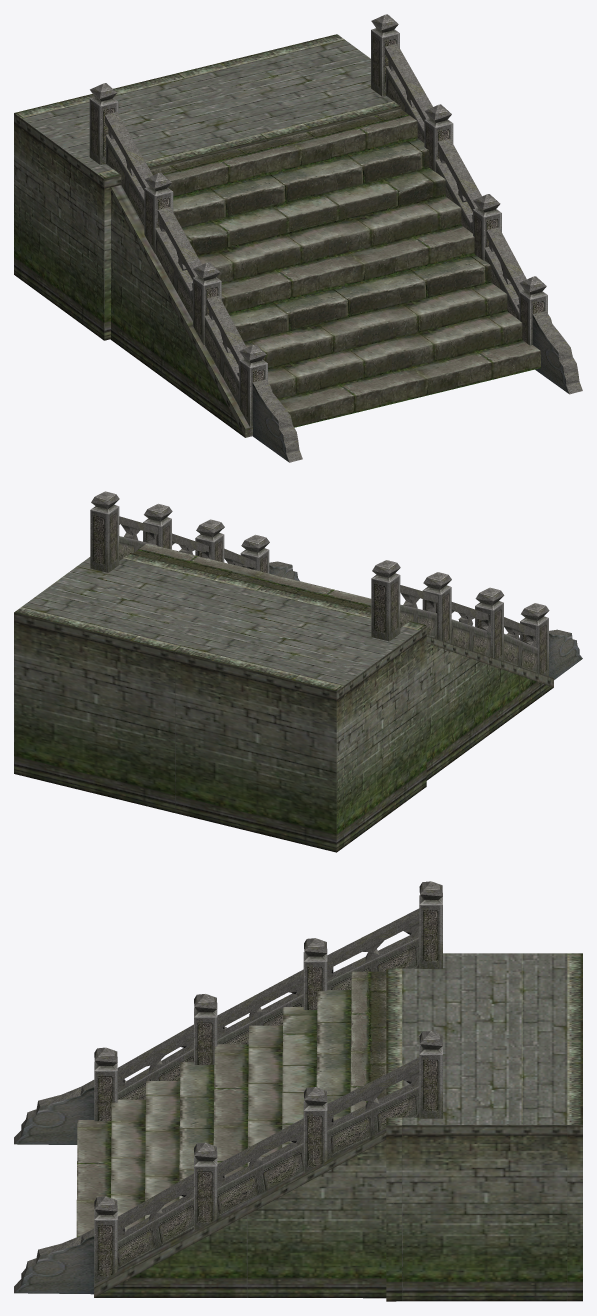
The model's file is lianqizong_taijie04b_jz.FBX.
3 renders of one model, top to bottom at view 1: azimuth 30°, elevation 25°; view 2: azimuth 150°, elevation 25°; view 3: azimuth 270°, elevation 25°, orthographic. The views are drawn at different scales.
Parts seen in each view (by area): view 1: lianqizong_taijie04b_jz_A03, lianqizong_taijie04b_jz_A01, lianqizong_taijie04b_jz_A02; view 2: lianqizong_taijie04b_jz_A02, lianqizong_taijie04b_jz_A01, lianqizong_taijie04b_jz_A03; view 3: lianqizong_taijie04b_jz_A01, lianqizong_taijie04b_jz_A02, lianqizong_taijie04b_jz_A03.
Boxes of the visible parts, x1,y1,x2,y2 form: lianqizong_taijie04b_jz_A03: (150,109,540,427); lianqizong_taijie04b_jz_A01: (14,14,582,462); lianqizong_taijie04b_jz_A02: (14,106,401,437); lianqizong_taijie04b_jz_A02: (14,612,553,852); lianqizong_taijie04b_jz_A01: (14,491,582,690); lianqizong_taijie04b_jz_A03: (133,543,371,611); lianqizong_taijie04b_jz_A01: (14,881,582,1294); lianqizong_taijie04b_jz_A02: (94,1125,582,1301); lianqizong_taijie04b_jz_A03: (76,971,386,1236).
Size of the model in its own units: 317 by 223 by 442.
